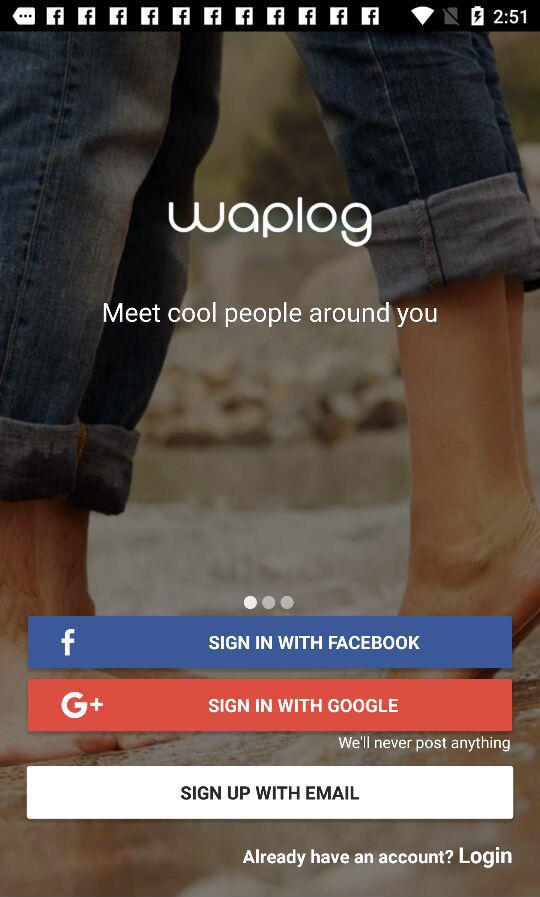BackgroundImage: (1, 33, 540, 897)
PageIndicator: (243, 595, 295, 610)
Text: (169, 197, 373, 249), (104, 302, 438, 328), (243, 848, 454, 868), (338, 736, 511, 753), (459, 846, 513, 869)
TextButton: (29, 678, 513, 732), (27, 766, 513, 819), (29, 616, 512, 669)
UpperTaskBar: (1, 1, 540, 33)
